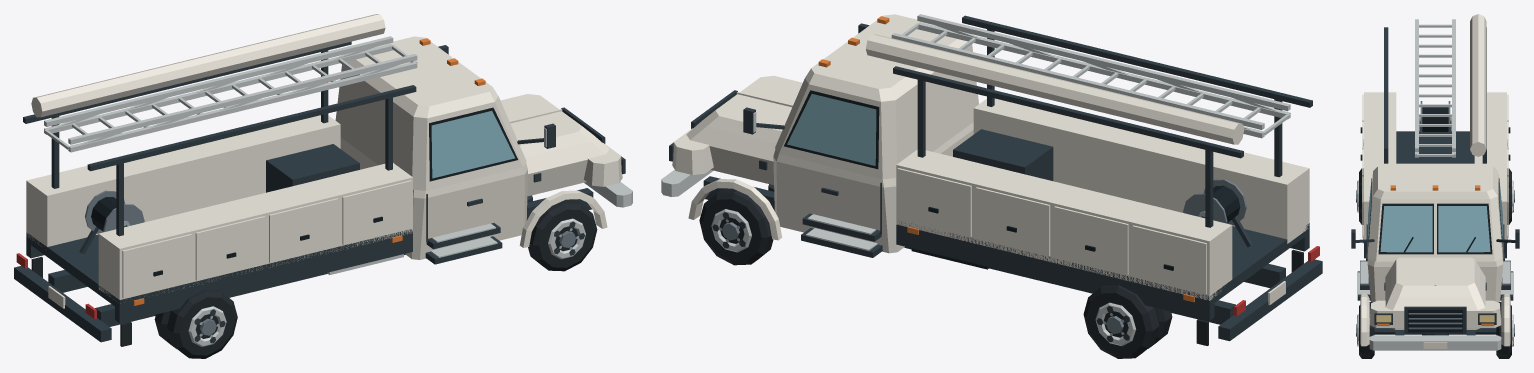
Rendered from b15_line_maintenance_service_truck.glb.
3 renders of one model, left to right at view 1: azimuth 30°, elevation 25°; view 2: azimuth 150°, elevation 25°; view 3: azimuth 270°, elevation 25°, orthographic. The views are drawn at different scales.
Parts seen in each view (by area): view 1: b15_line_maintenance_service_truck; view 2: b15_line_maintenance_service_truck; view 3: b15_line_maintenance_service_truck.
Part boxes in pixels (x1,y1,x2,y2): b15_line_maintenance_service_truck: [14, 14, 632, 358]; b15_line_maintenance_service_truck: [661, 14, 1322, 358]; b15_line_maintenance_service_truck: [1351, 14, 1519, 358].
Size of the model in its own units: 7.98 by 3.23 by 2.84.
